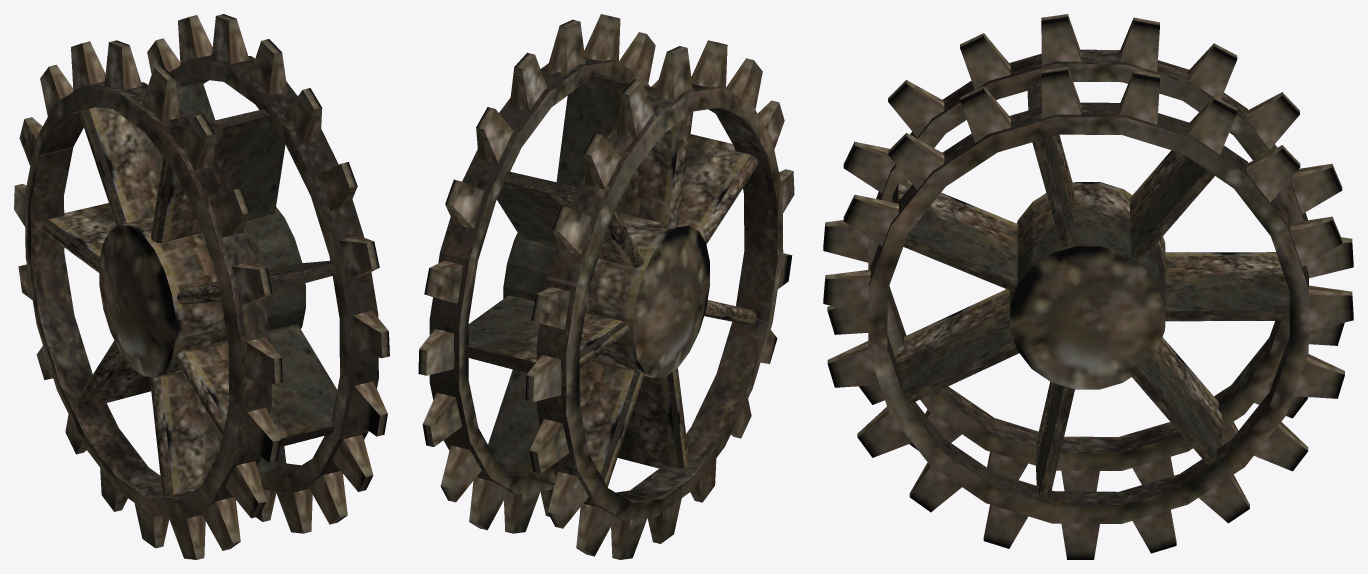
Rendered from BackWheel.fbx.
The picture shows the model from 3 angles, left to right: view 1: azimuth 30°, elevation 25°; view 2: azimuth 150°, elevation 25°; view 3: azimuth 270°, elevation 25°; orthographic projection.
Visible parts, largest first — view 1: BackWheel; view 2: BackWheel; view 3: BackWheel.
Boxes of the visible parts, x1,y1,x2,y2 form: BackWheel: (14,14,389,559); BackWheel: (418,14,794,559); BackWheel: (823,14,1353,559).
Size of the model in its own units: 26.54 by 81.4 by 80.05.
